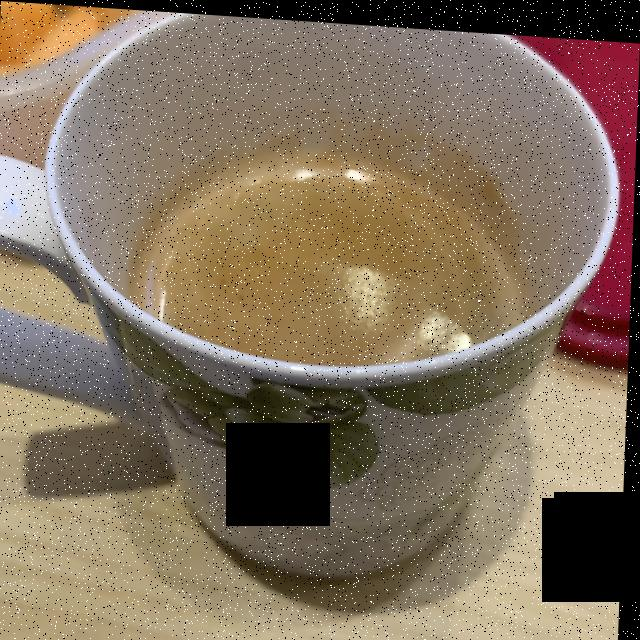coffee-with-caffeine: (141, 132, 525, 355)
